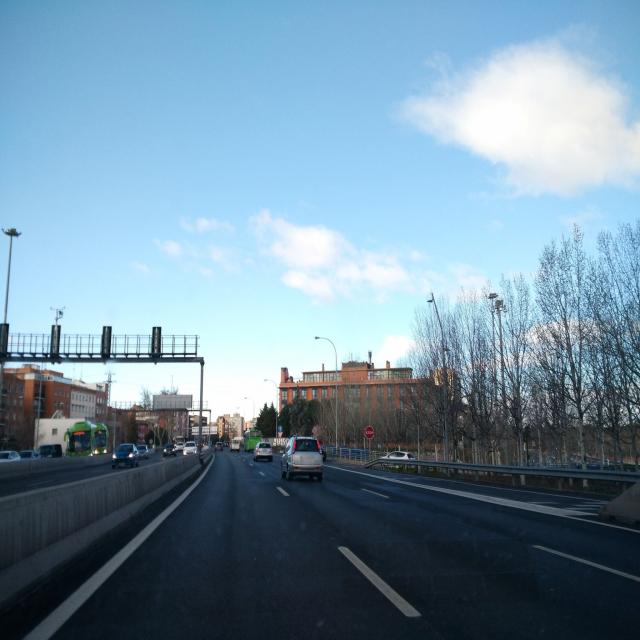car: (280, 436, 324, 482), (112, 442, 140, 470), (253, 441, 274, 462), (38, 442, 63, 458), (382, 450, 415, 460), (0, 449, 21, 464), (182, 441, 198, 456), (19, 449, 40, 460), (136, 443, 150, 459), (162, 443, 177, 457), (230, 438, 240, 452), (175, 439, 185, 452), (215, 441, 223, 451)
